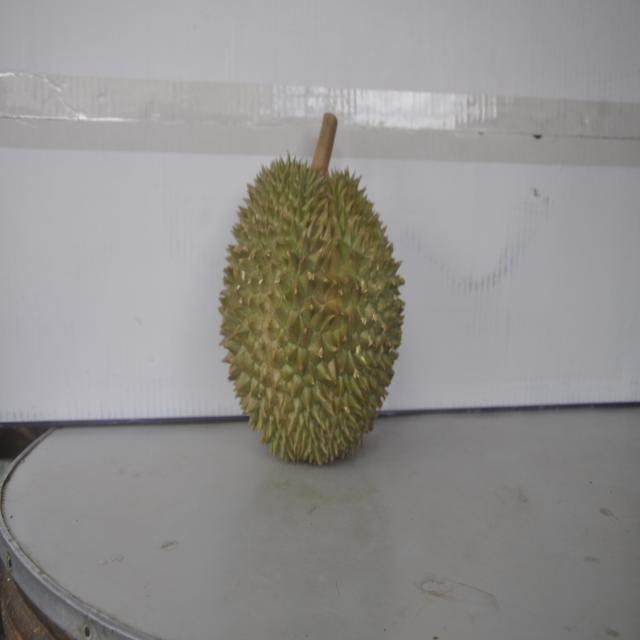mature: (217, 139, 406, 467)
